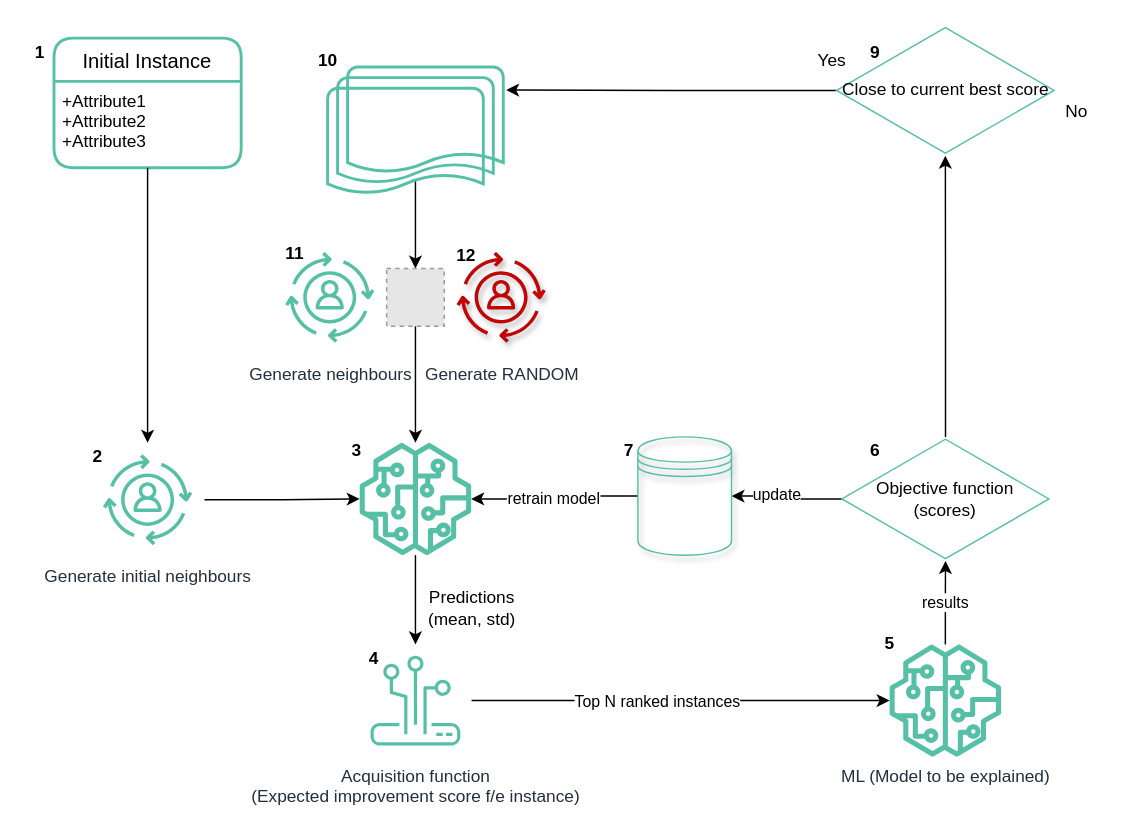
Image size: 1122x834. Some labels were removed from this diagram. Grey dashed boxes stand in for pictures. Here are the shapes that lost their labels. From the top down, the centre of each, then its label:
(x=414, y=130): Closest Counterfactuals
(x=415, y=498): Surrogate Model
(x=685, y=497): known instances
